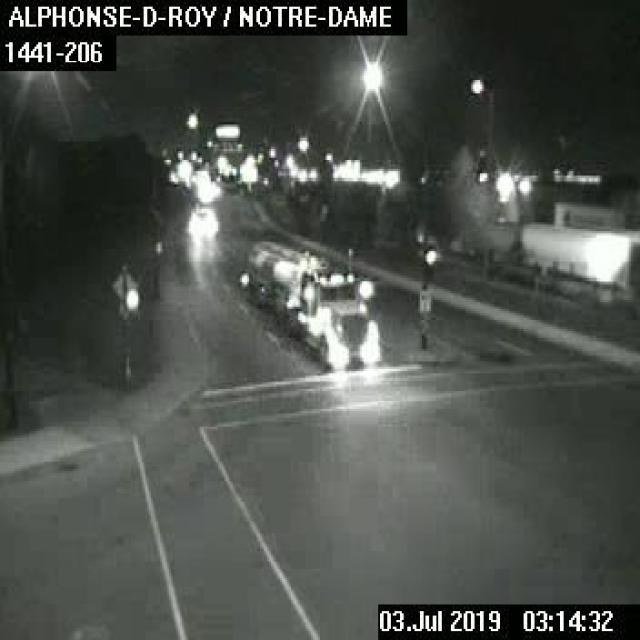vehicle: (240, 237, 378, 367)
